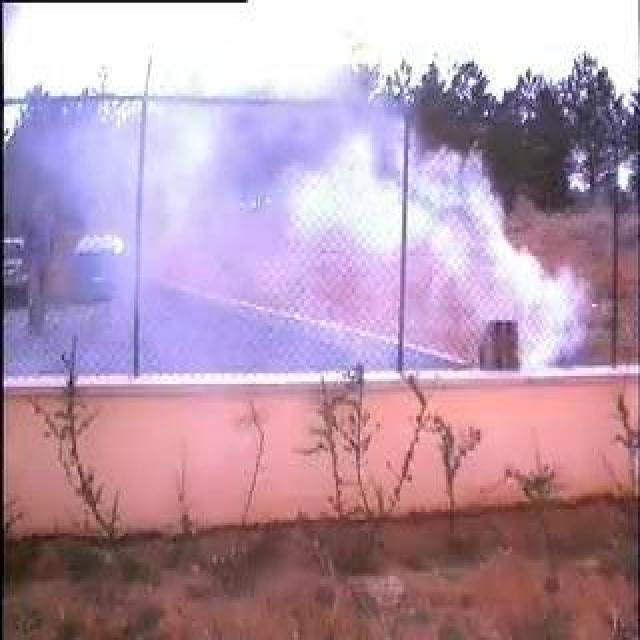Smoke: (55, 111, 575, 364)
